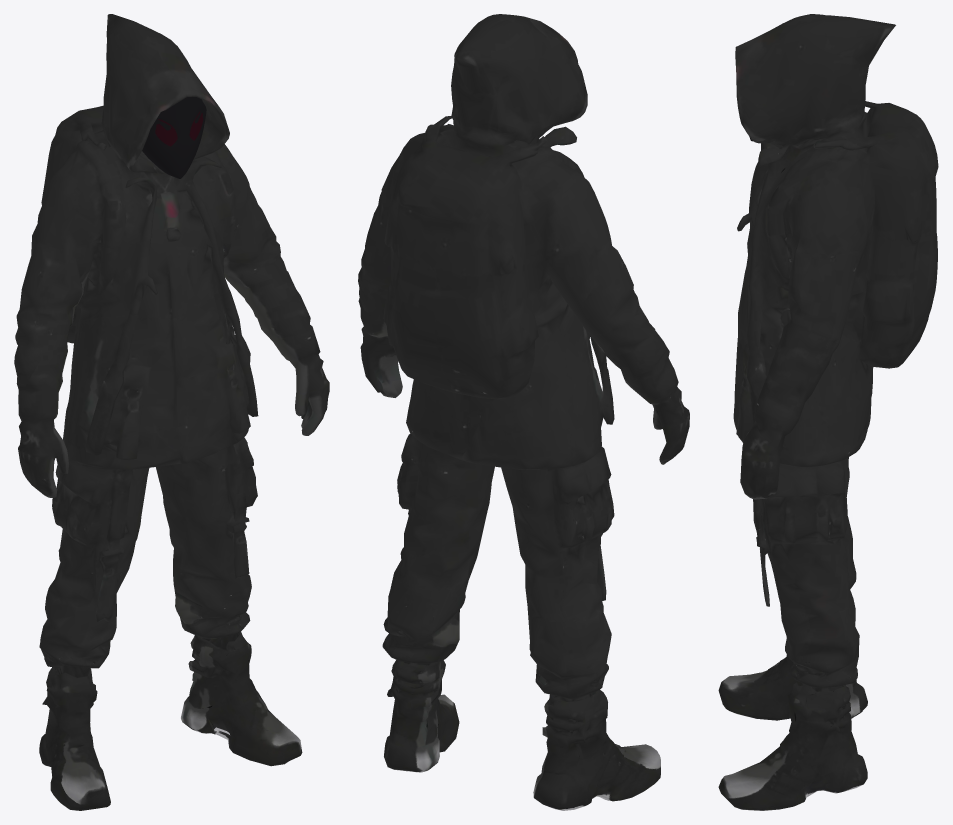
3 views of the same model, side by side, from view 1: azimuth 30°, elevation 25°; view 2: azimuth 150°, elevation 25°; view 3: azimuth 270°, elevation 25° (orthographic). The views are drawn at different scales.
Visible parts, largest first — view 1: tripo_node_d85fa887-6ee1-48fe-85d2-1b7b5fc2f6a8, mascara_oficial; view 2: tripo_node_d85fa887-6ee1-48fe-85d2-1b7b5fc2f6a8; view 3: tripo_node_d85fa887-6ee1-48fe-85d2-1b7b5fc2f6a8.
Part boxes in pixels (left/top/right/bottom): tripo_node_d85fa887-6ee1-48fe-85d2-1b7b5fc2f6a8: left=14, top=14, right=329, bottom=810; mascara_oficial: left=142, top=97, right=206, bottom=178; tripo_node_d85fa887-6ee1-48fe-85d2-1b7b5fc2f6a8: left=358, top=14, right=689, bottom=810; tripo_node_d85fa887-6ee1-48fe-85d2-1b7b5fc2f6a8: left=718, top=14, right=938, bottom=810.
Size of the model in its own units: 1.85 by 4.2 by 1.13.
Materials: 2 (2 with a texture image).
